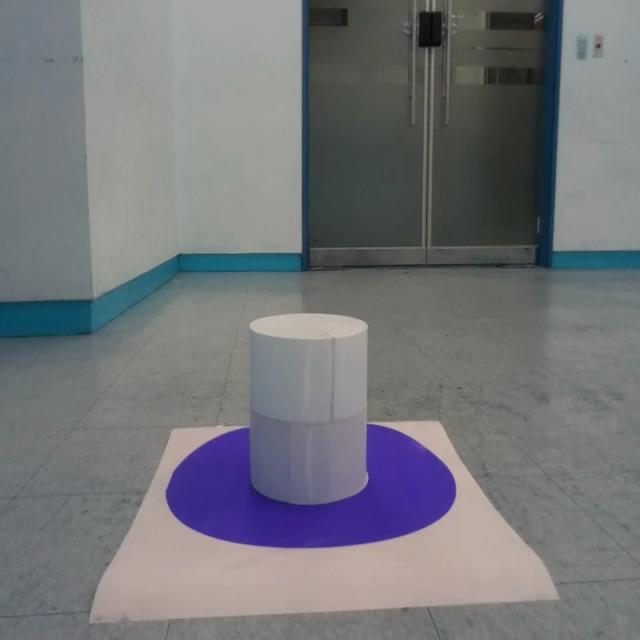cylinder: (247, 312, 369, 505)
